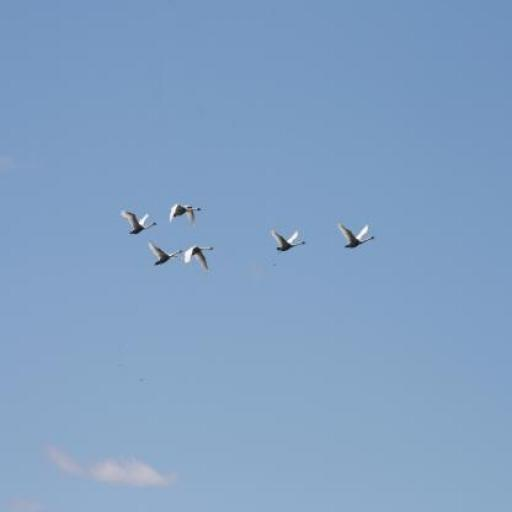bird: (338, 222, 376, 248), (149, 240, 183, 267), (120, 211, 158, 235), (184, 246, 216, 273), (271, 228, 306, 252), (170, 204, 202, 226)
